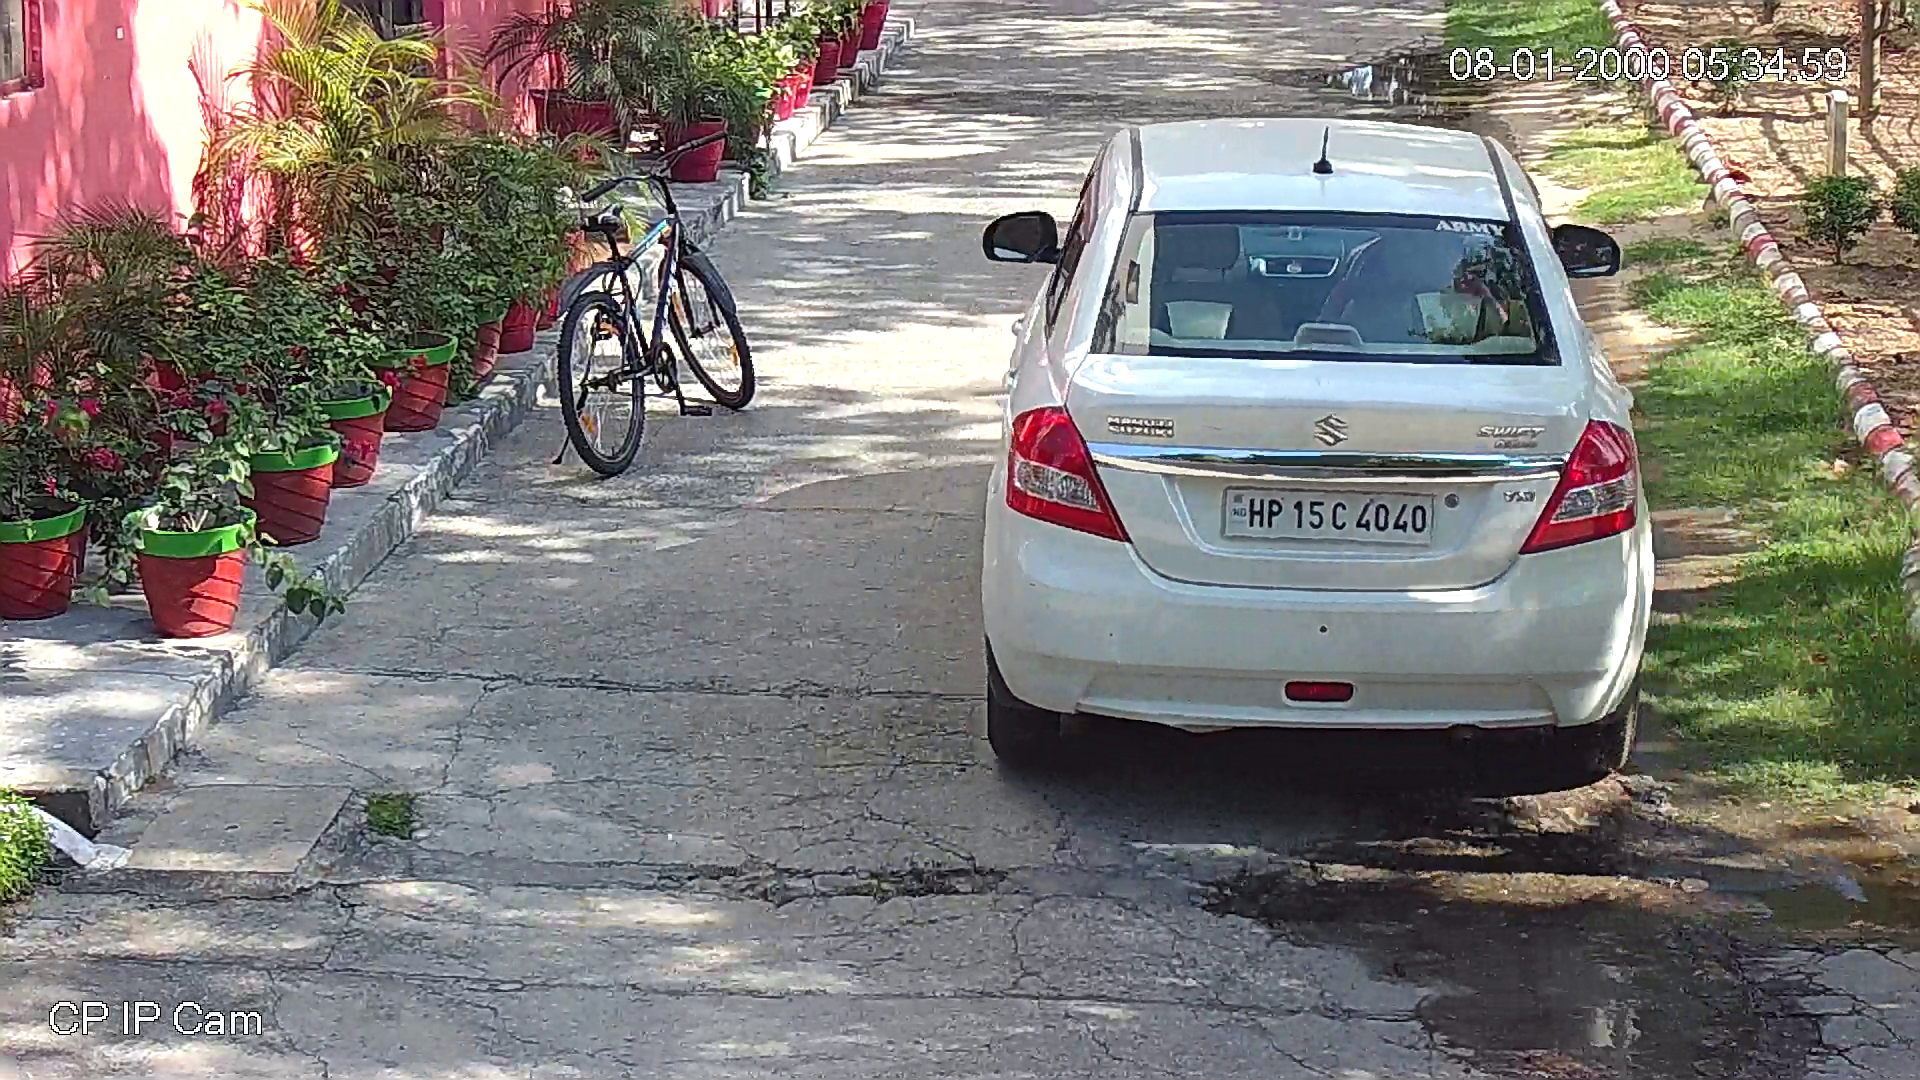plate: (1219, 484, 1437, 538)
